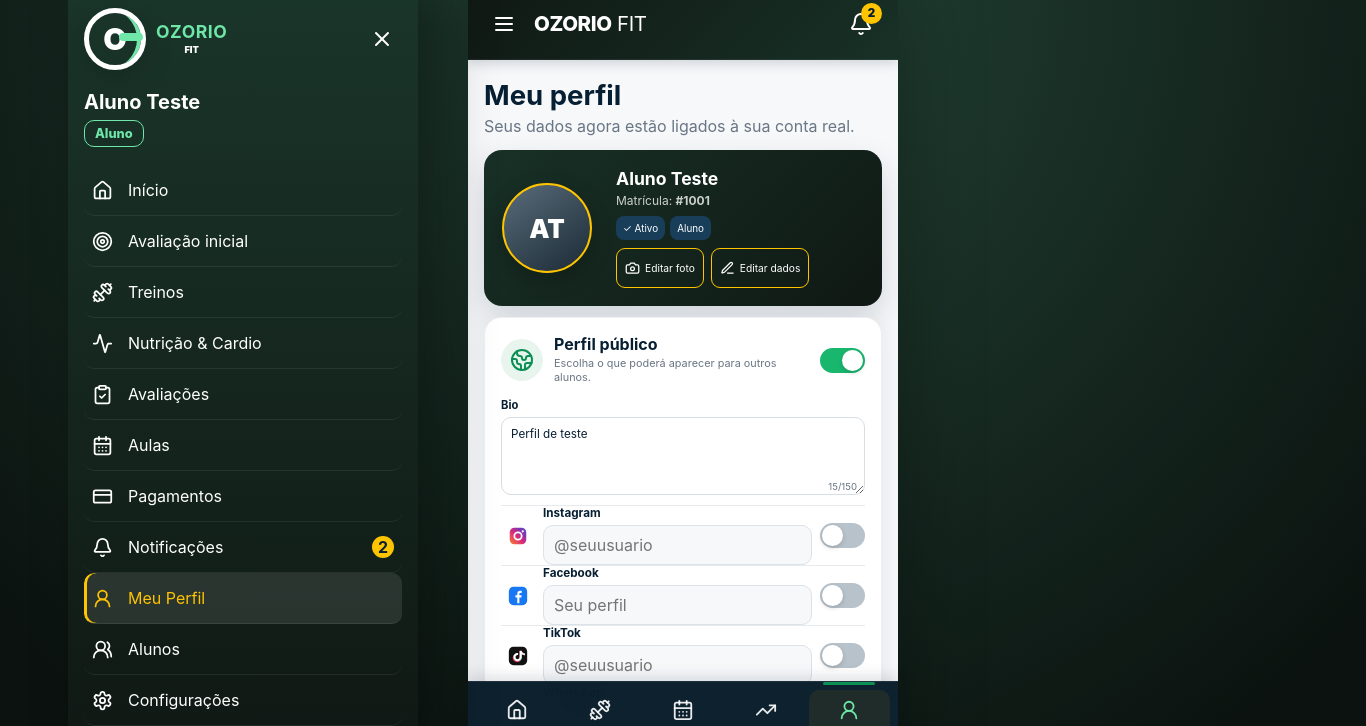
Real profile state › saves profile changes through the account provider
Replace the text in the text box labelled "Bio 15/150" with "Perfil atualizado no banco" at (683, 456), box [501,417,865,495]
(page scrolled)
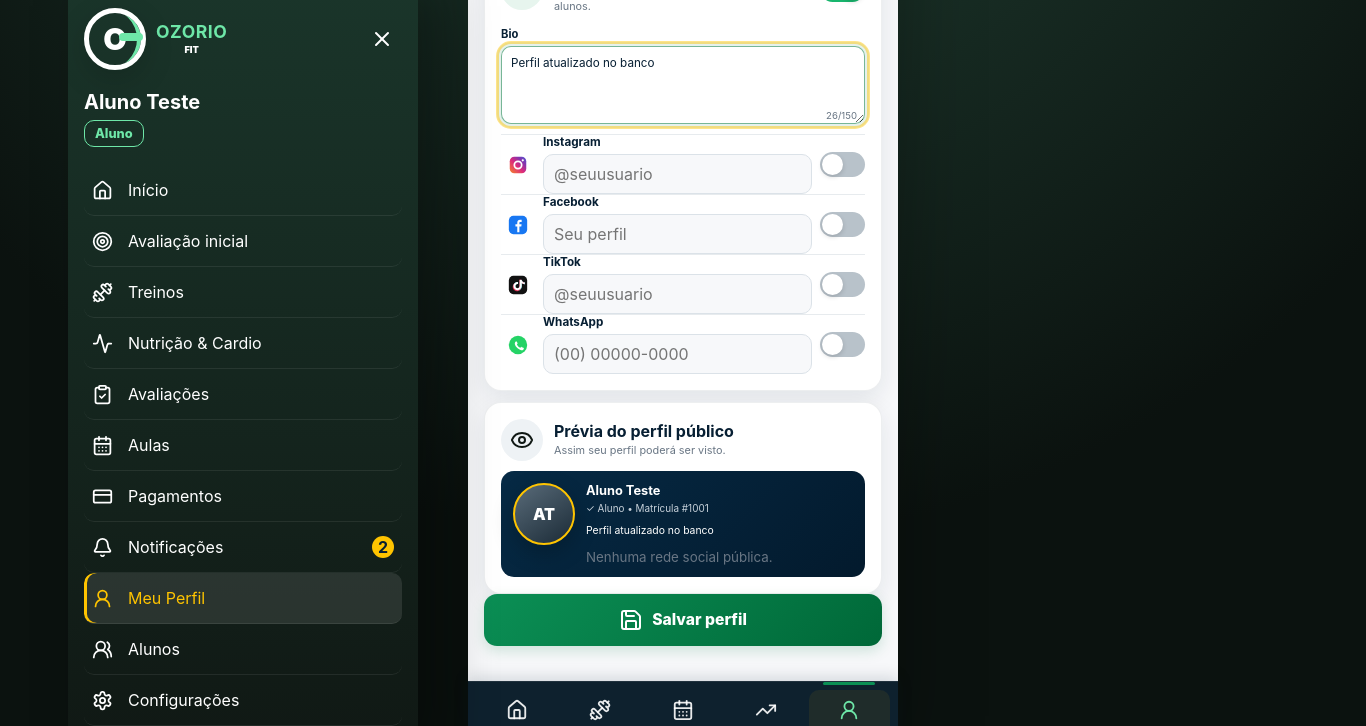
Click the button "Salvar perfil".
click(683, 620)  # box [484,594,882,646]
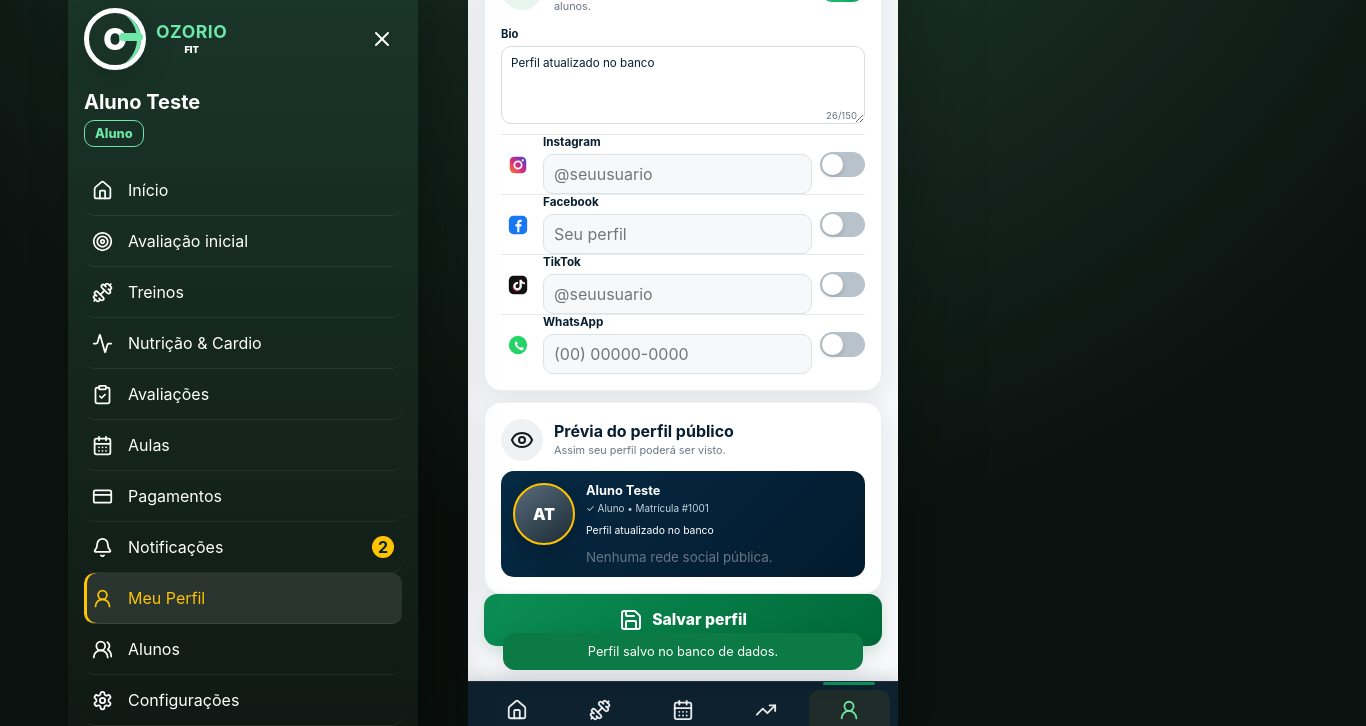
Now the text "Perfil salvo no banco de dados." is shown, box [503,633,863,670]
